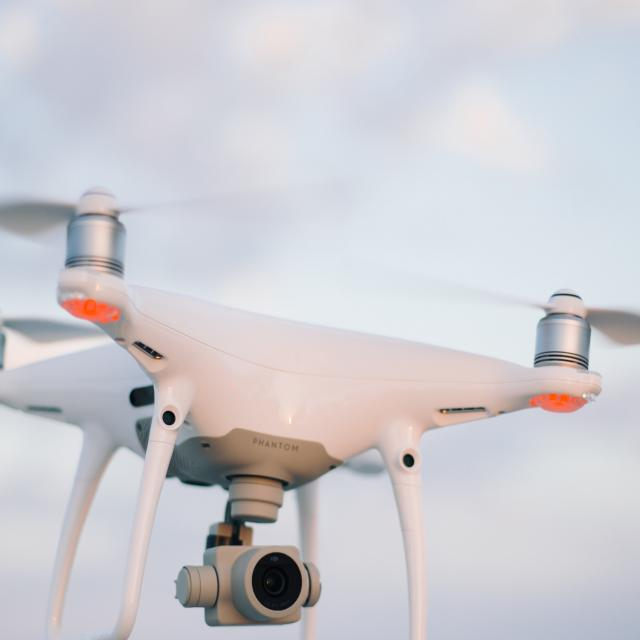drone: (0, 161, 640, 578)
